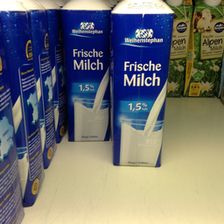milk: (112, 1, 171, 166), (60, 1, 111, 143), (185, 1, 222, 99)
